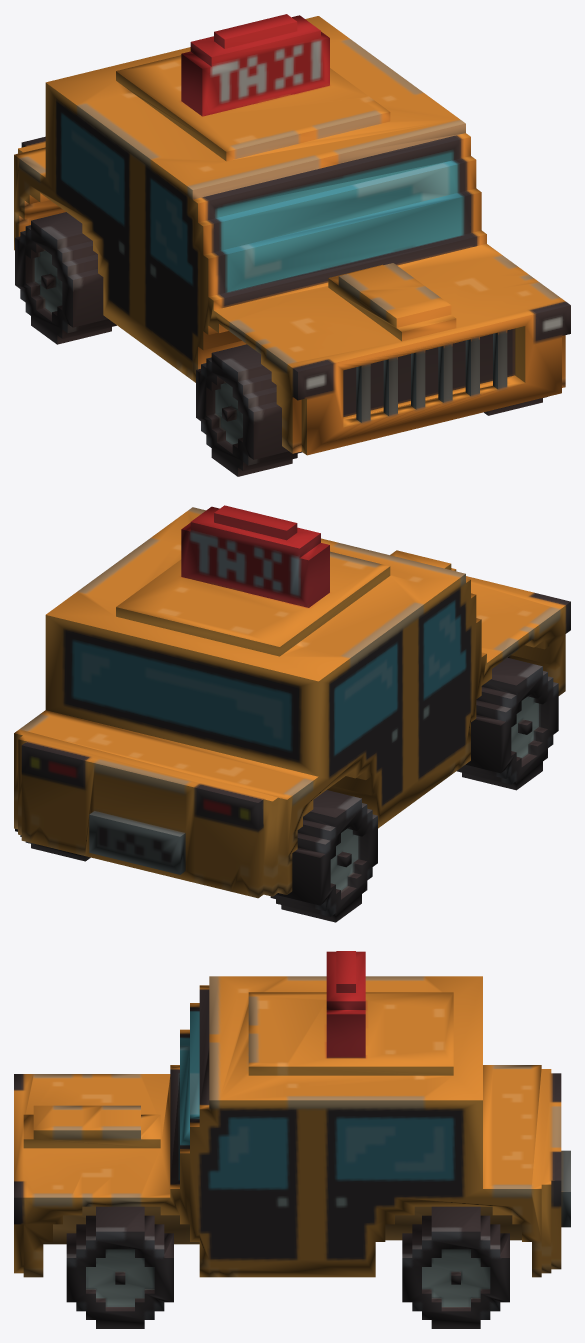
Rendered from CarB.fbx.
3 views of the same model, one above another, from view 1: azimuth 30°, elevation 25°; view 2: azimuth 150°, elevation 25°; view 3: azimuth 270°, elevation 25° (orthographic). The views are drawn at different scales.
Visible parts, largest first — view 1: CarB1, CarB5, CarB3; view 2: CarB1, CarB3, CarB5; view 3: CarB1, CarB4, CarB2.
Boxes of the visible parts, x1,y1,x2,y2 form: CarB1: (14,14,570,455); CarB5: (15,212,116,344); CarB3: (196,344,302,476); CarB1: (14,505,570,898); CarB3: (457,657,558,790); CarB5: (270,790,377,922); CarB1: (14,951,570,1277); CarB4: (402,1206,509,1328); CarB2: (66,1206,173,1328).
Size of the model in its own units: 33.49 by 33 by 57.
